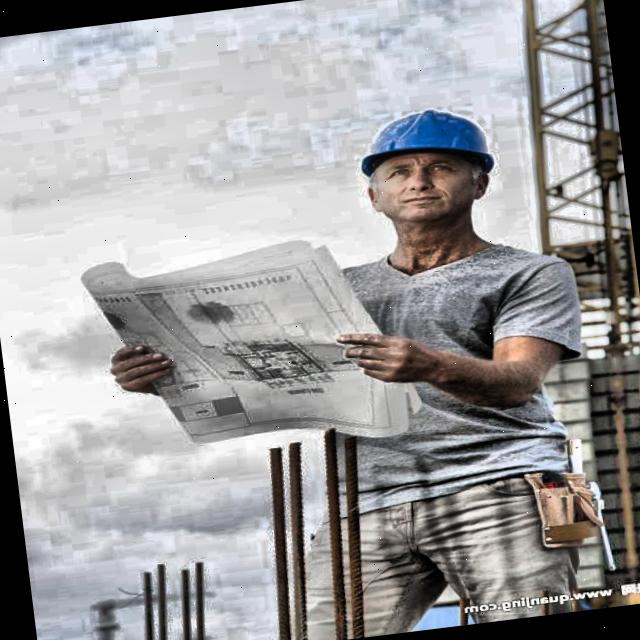helmet: (326, 79, 526, 265)
